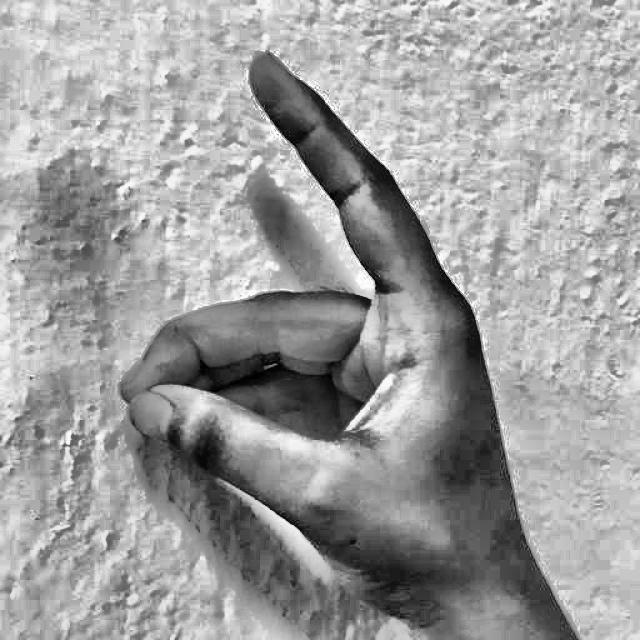Dha: (107, 38, 575, 634)
